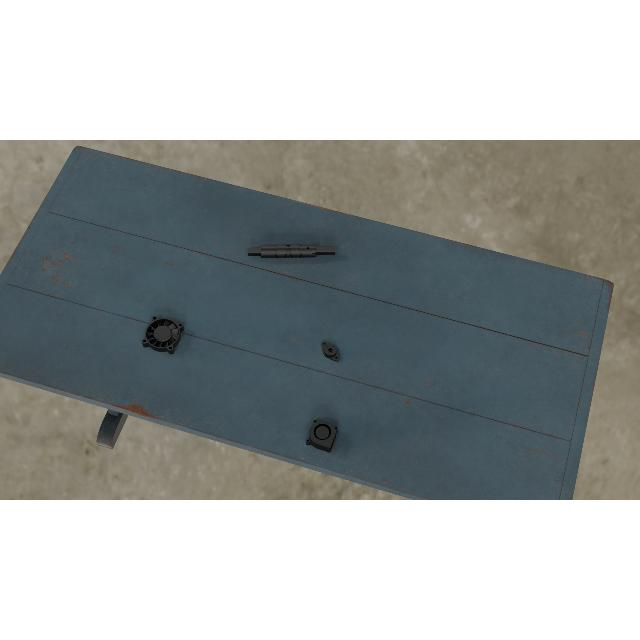Pieza1: (248, 242, 336, 260)
Pieza2: (316, 338, 344, 364)
Pieza3: (305, 416, 339, 454)
Pieza4: (140, 314, 186, 356)
